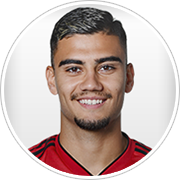face: (42, 39, 137, 125)
